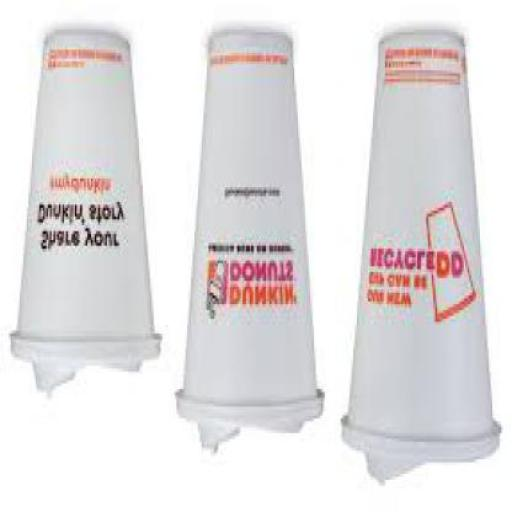paper: (339, 38, 498, 459), (175, 33, 322, 424), (7, 26, 160, 363)
